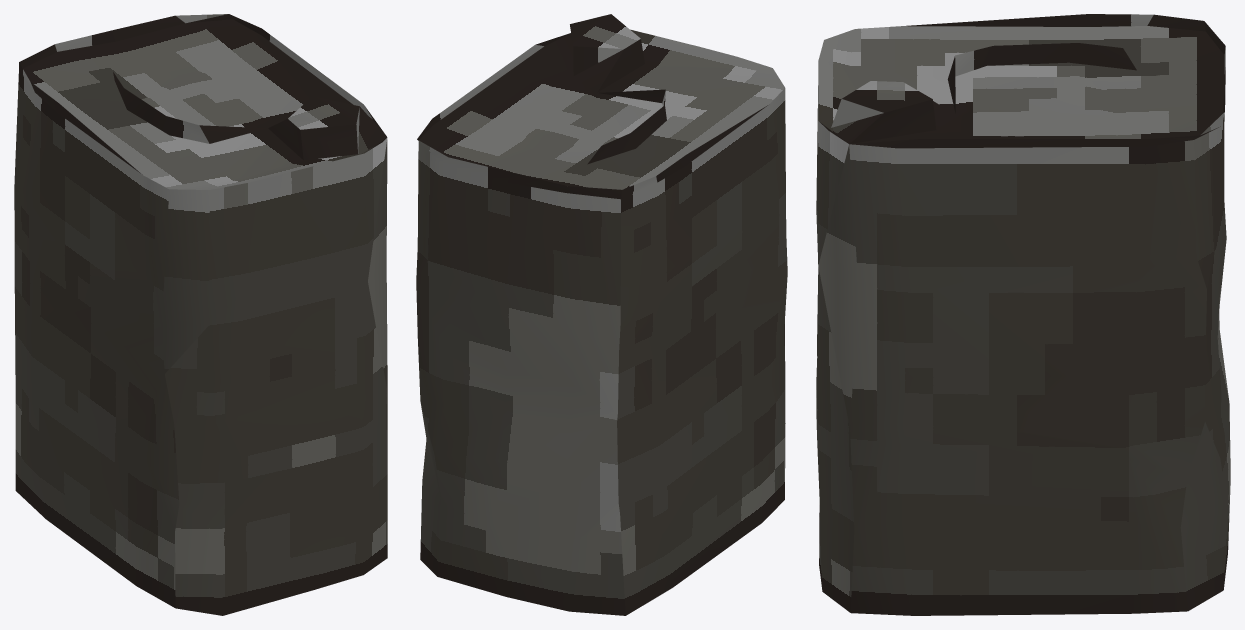
Rendered from oil_tin.glb.
3 renders of one model, left to right at view 1: azimuth 30°, elevation 25°; view 2: azimuth 150°, elevation 25°; view 3: azimuth 270°, elevation 25°, orthographic. The views are drawn at different scales.
Parts seen in each view (by area): view 1: mesh; view 2: mesh; view 3: mesh.
Boxes of the visible parts, x1,y1,x2,y2 form: mesh: (14,14,387,615); mesh: (416,14,787,615); mesh: (816,14,1230,615).
Bounding box in the file's own units: 0.1148 × 0.2054 × 0.1546.
1 material, 1 textured.
